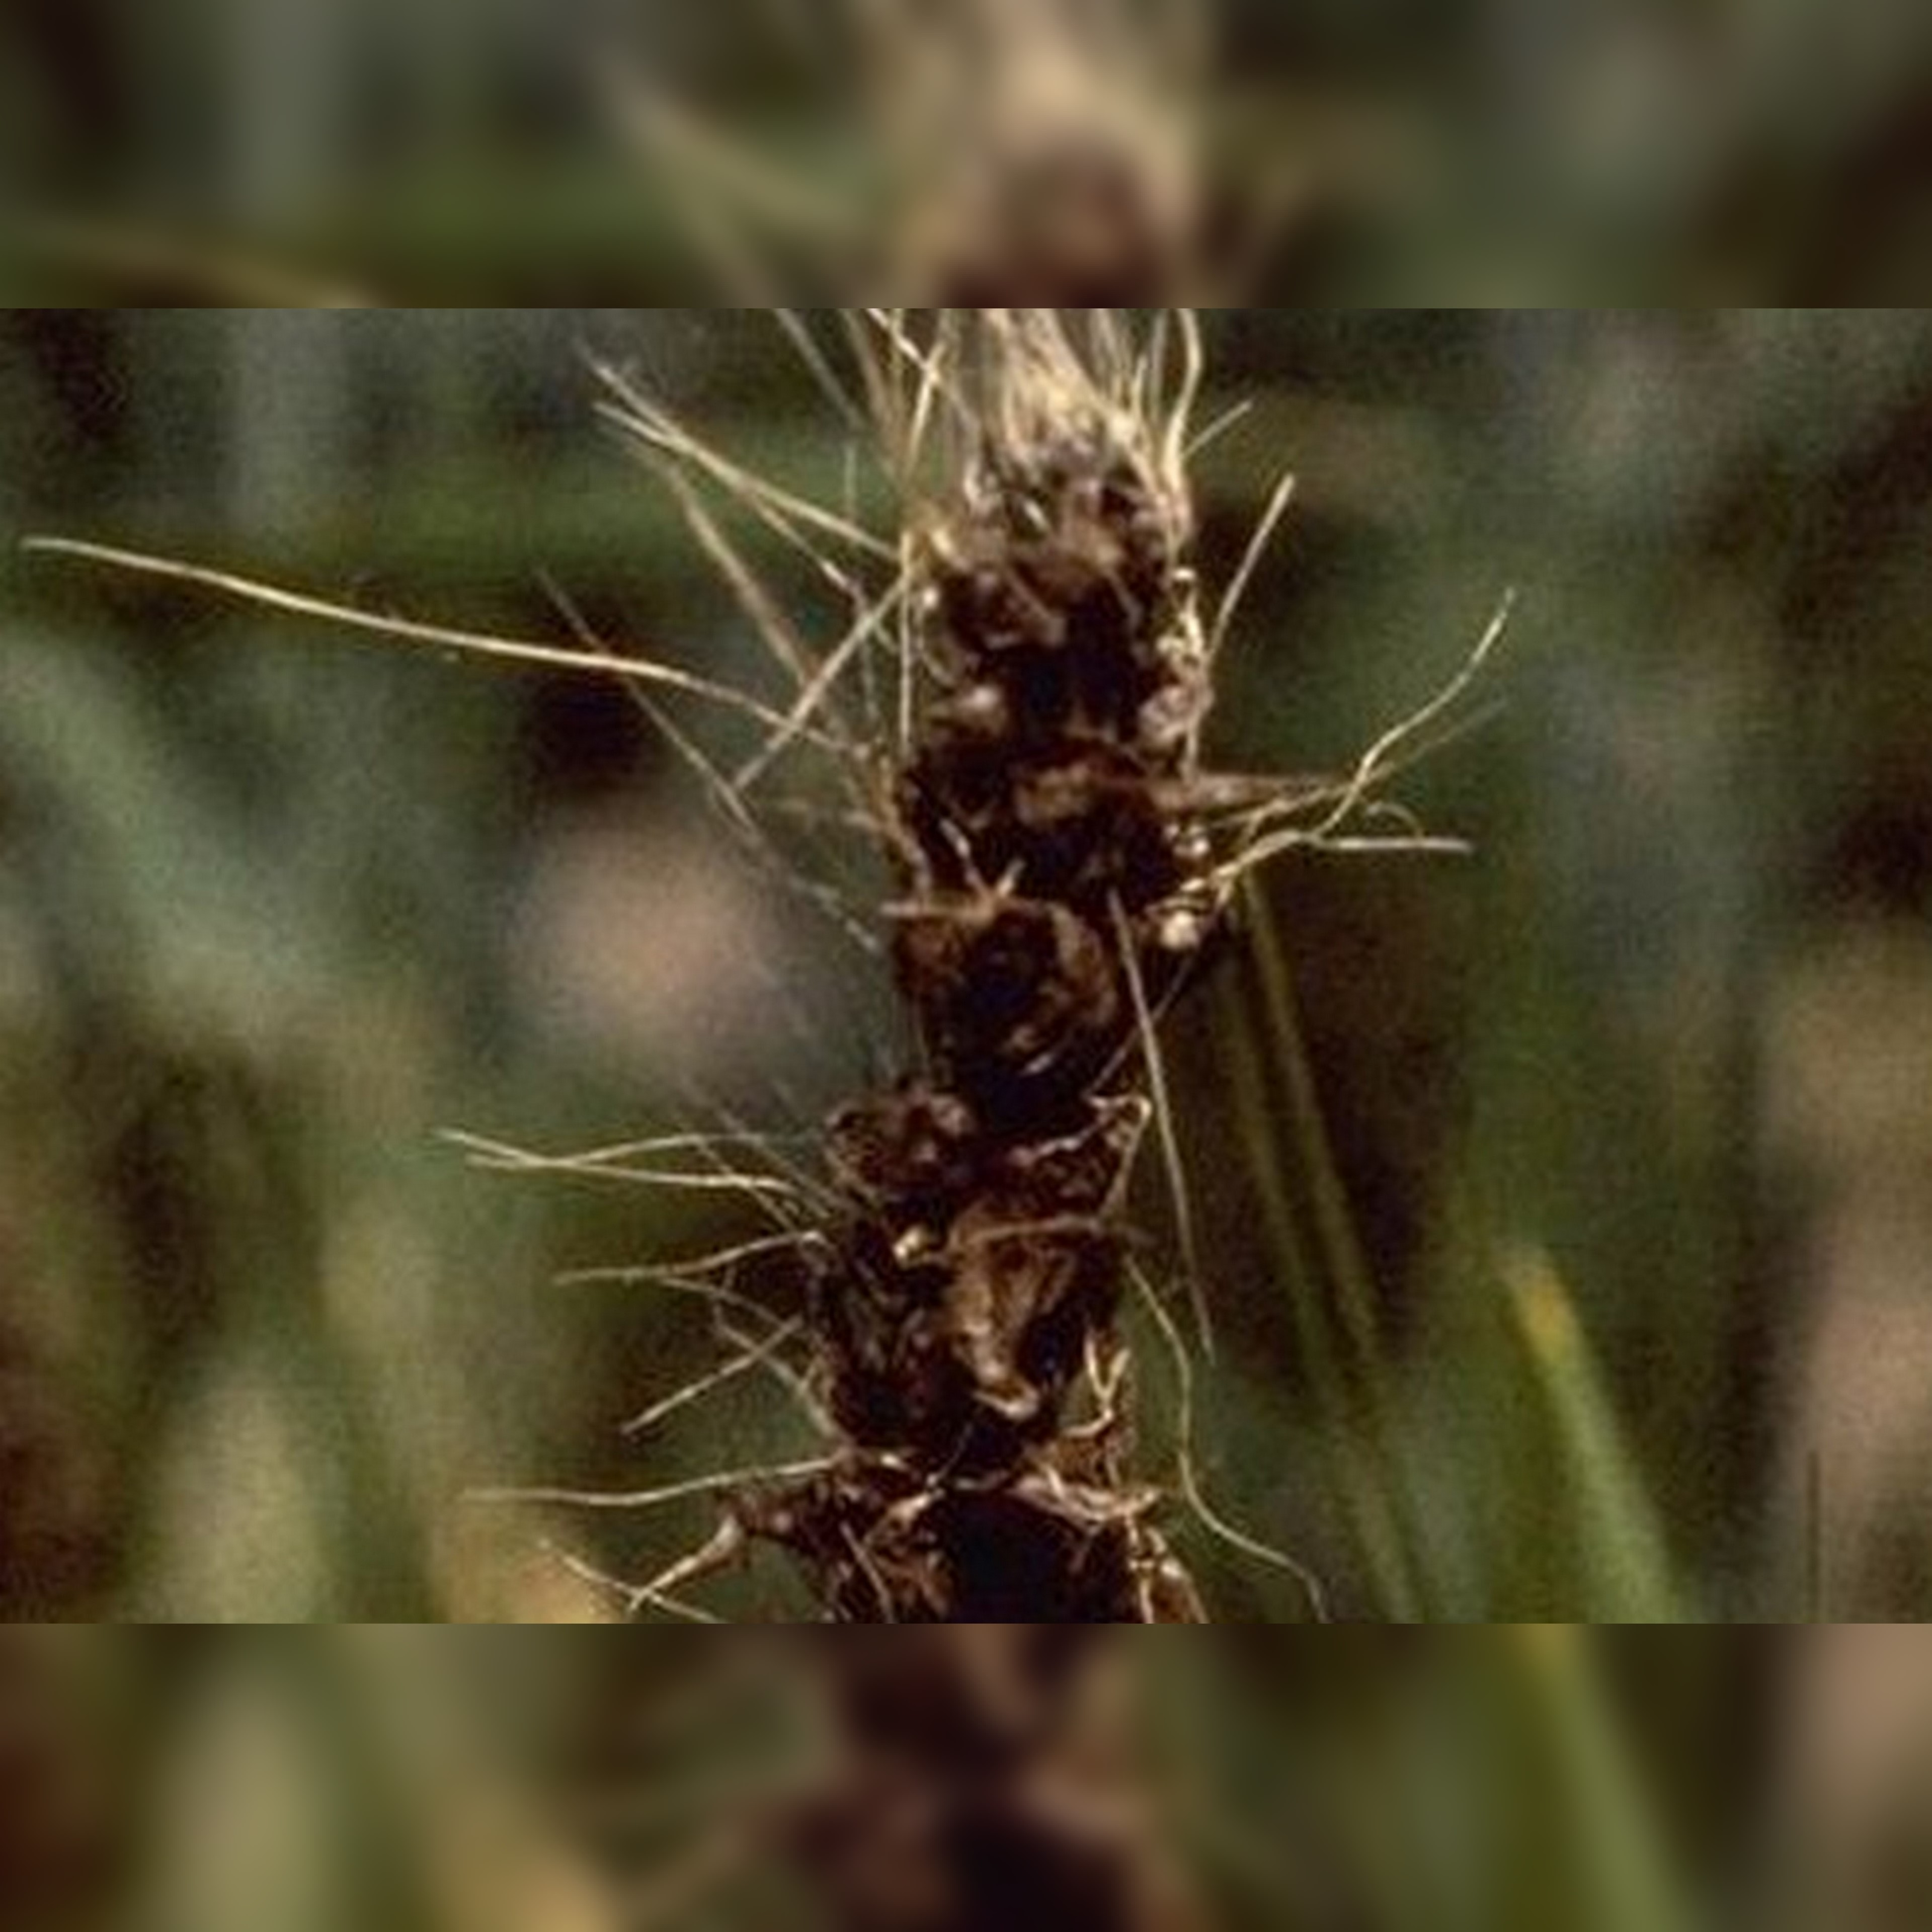Wheat Loose Smut: (704, 379, 1253, 1608)
